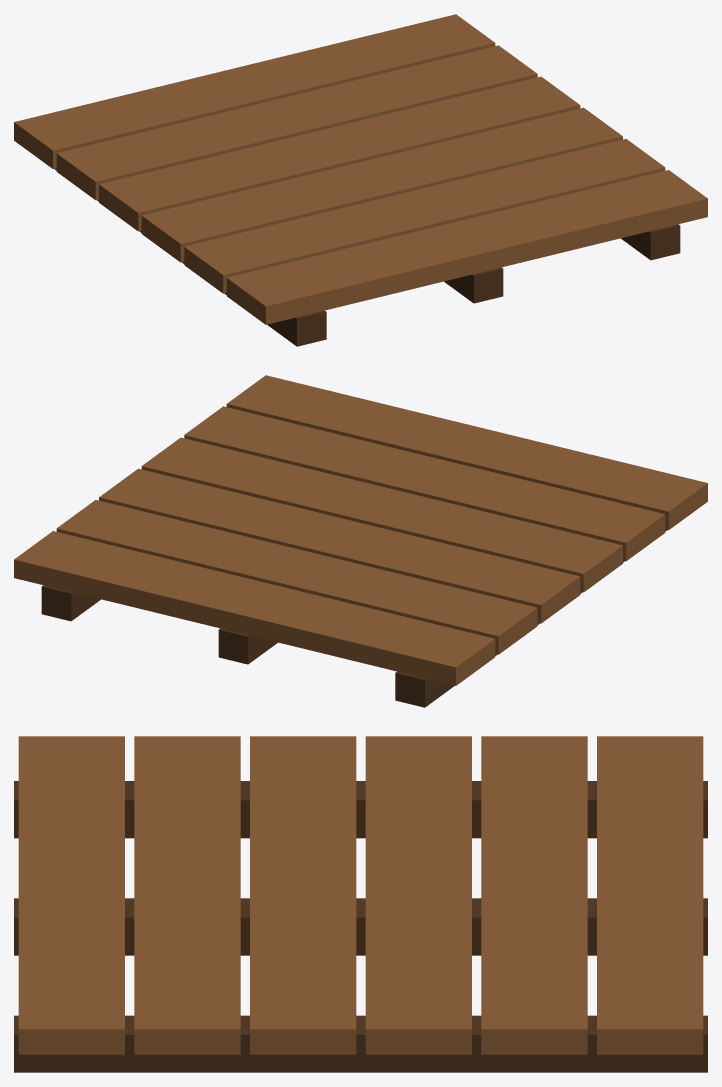
Rendered from Floor.obj.
3 views of the same model, one above another, from view 1: azimuth 30°, elevation 25°; view 2: azimuth 150°, elevation 25°; view 3: azimuth 270°, elevation 25° (orthographic). The views are drawn at different scales.
Visible parts, largest first — view 1: Floor; view 2: Floor; view 3: Floor.
Part boxes in pixels (x1,y1,x2,y2): Floor: (14, 14, 707, 346); Floor: (14, 375, 707, 707); Floor: (14, 736, 707, 1072).
Bounding box in the file's own units: 3 × 0.3 × 3.
